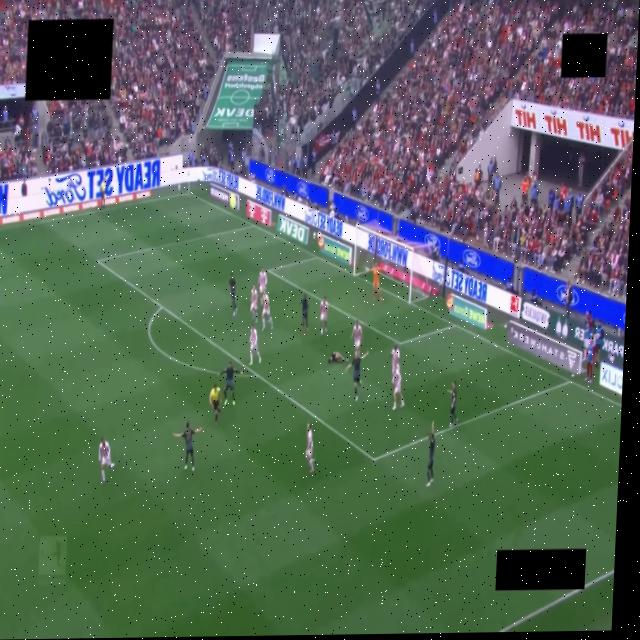player: (172, 422, 202, 471), (345, 351, 368, 401), (219, 362, 241, 404), (98, 438, 113, 484), (426, 422, 434, 486), (304, 423, 313, 474), (392, 369, 403, 410), (249, 325, 260, 365), (261, 292, 272, 331), (448, 381, 457, 427), (249, 285, 259, 323), (228, 273, 236, 315), (372, 264, 381, 301), (299, 293, 307, 332), (351, 321, 361, 352), (320, 297, 327, 334), (328, 352, 347, 363), (392, 344, 399, 373), (259, 269, 267, 292)
referee: (209, 385, 220, 425)
